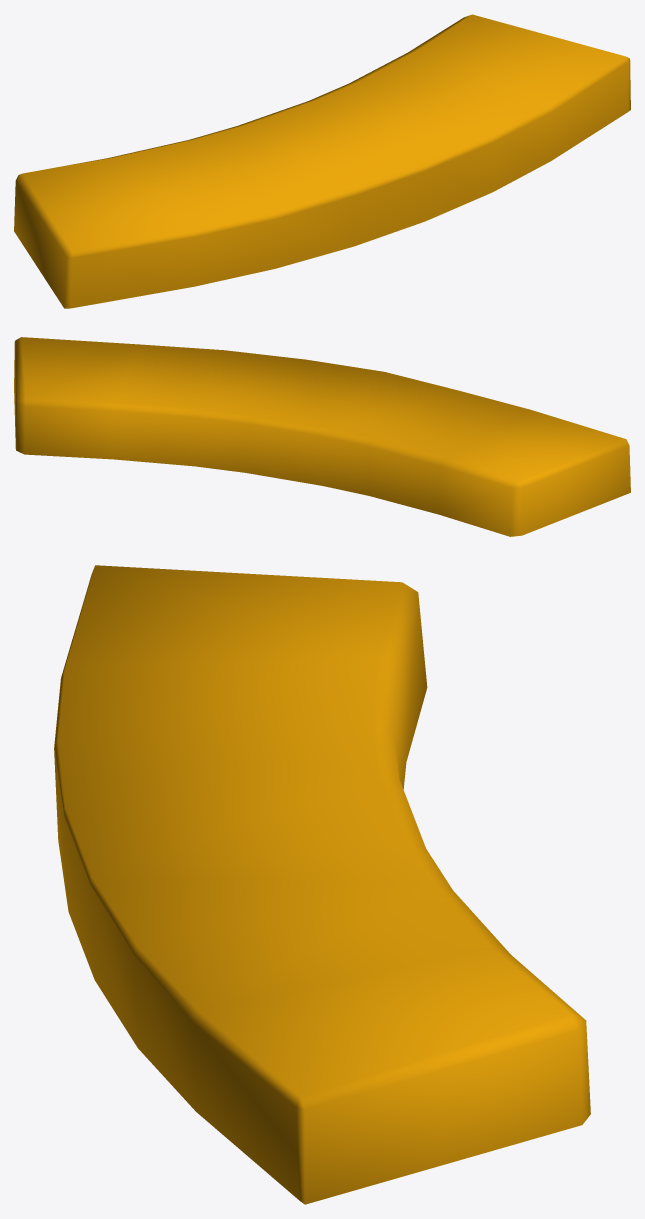
File: Platform_L_8.fbx
3 views of the same model, one above another, from view 1: azimuth 30°, elevation 25°; view 2: azimuth 150°, elevation 25°; view 3: azimuth 270°, elevation 25° (orthographic). The views are drawn at different scales.
Visible parts, largest first — view 1: Platform_L_8; view 2: Platform_L_8; view 3: Platform_L_8.
Part boxes in pixels (x1,y1,x2,y2): Platform_L_8: [14, 14, 630, 308]; Platform_L_8: [14, 337, 630, 536]; Platform_L_8: [54, 565, 590, 1204].
Bounding box in the file's own units: 2256 × 238 × 927.
